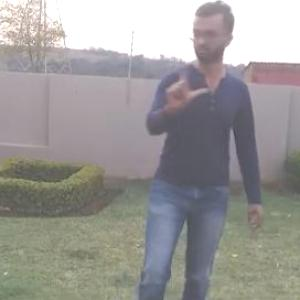land_hand: (158, 52, 212, 118)
